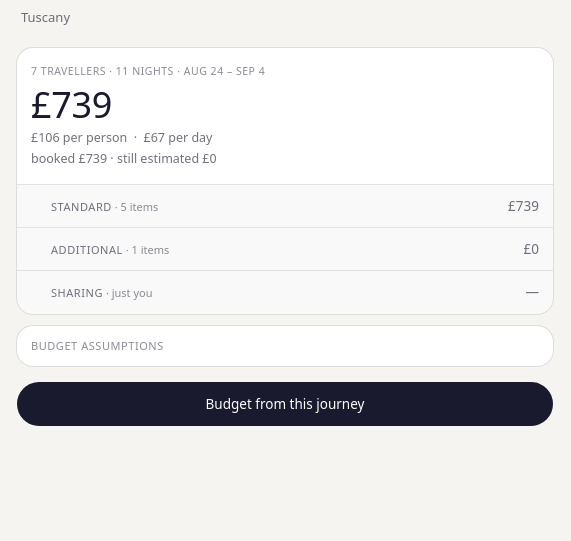
Scenario: Budget in the person's home currency › a British person: pounds, written £
Expected: the text with test id "estimate-booked" shows "booked £739 ·", top-left (31, 150), bottom-right (217, 167)
Click the button "Budget assumptions".
click(97, 345)  # box top-left (17, 326), bottom-right (553, 366)
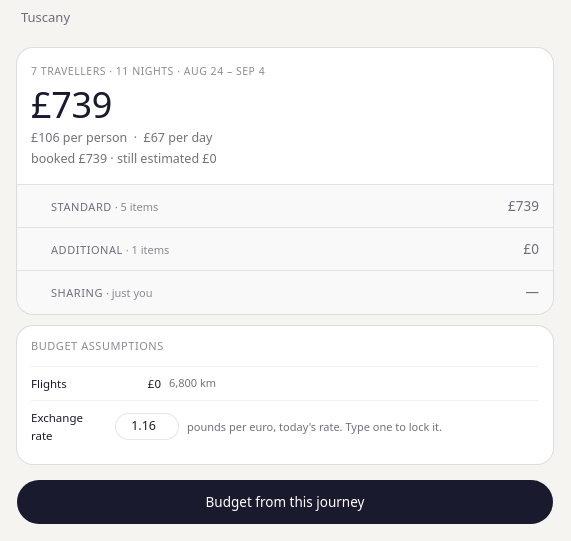
Now the text "pounds per euro, today's rate. Type one to lock it." is shown, box top-left (187, 418), bottom-right (442, 434)
